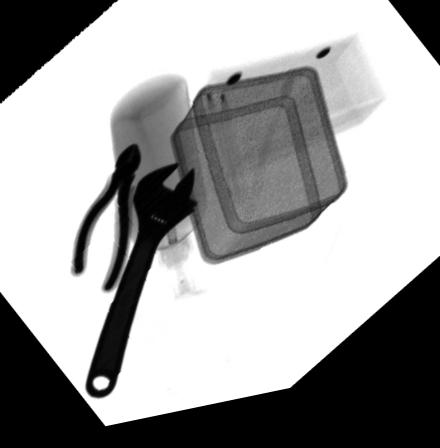Pliers: (67, 147, 144, 297)
Wrench: (84, 169, 200, 403)
